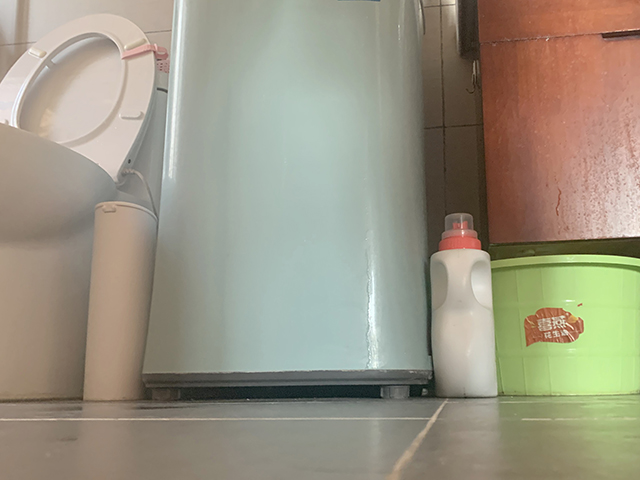closestool: (1, 12, 157, 402)
